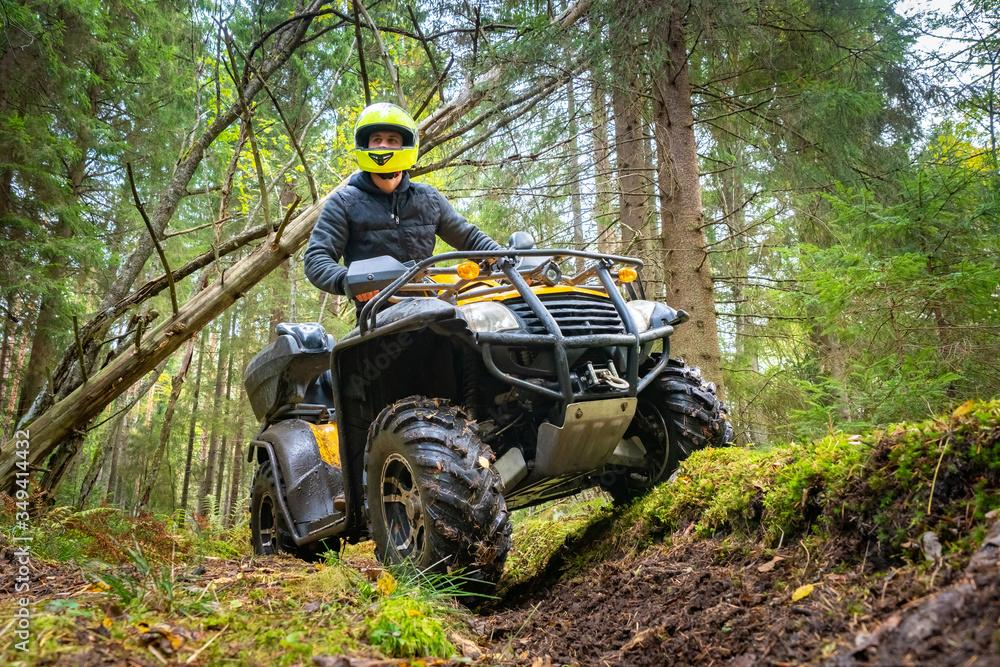helmet: (353, 101, 420, 180)
